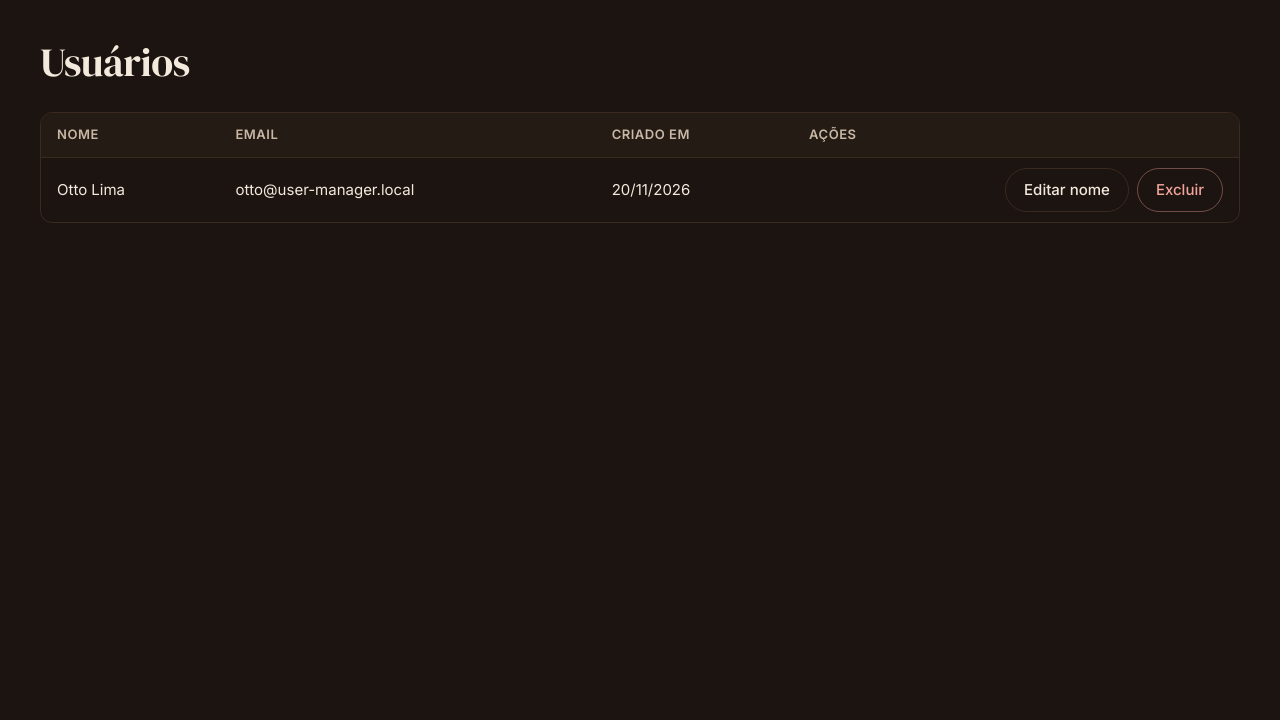
Test: UsersPage › UsersPage_DeleteOfMissingUser_SaysListWasRefreshed
This screenshot has width=1280, height=720.
Click the button with aria-label "Excluir Otto Lima" at {"x": 1180, "y": 190}, box [1137,168,1223,212]
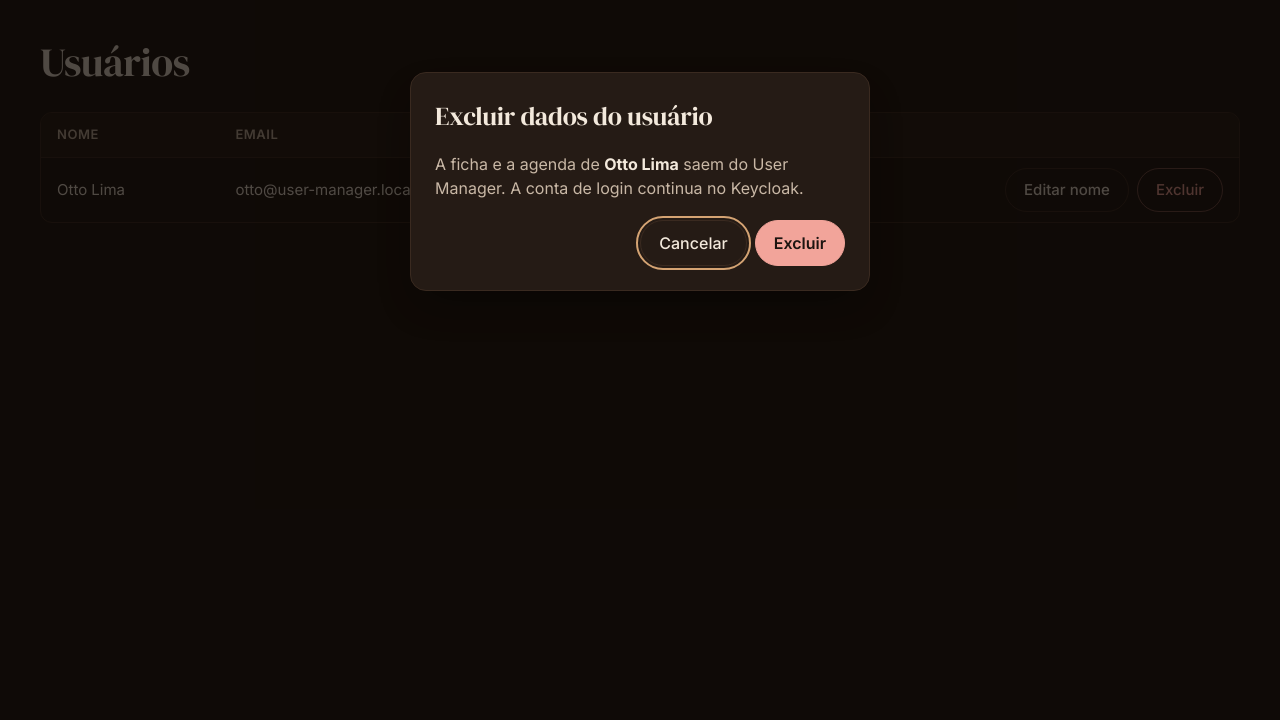
Click the button "Excluir" at {"x": 800, "y": 243}, box [755,220,845,266]
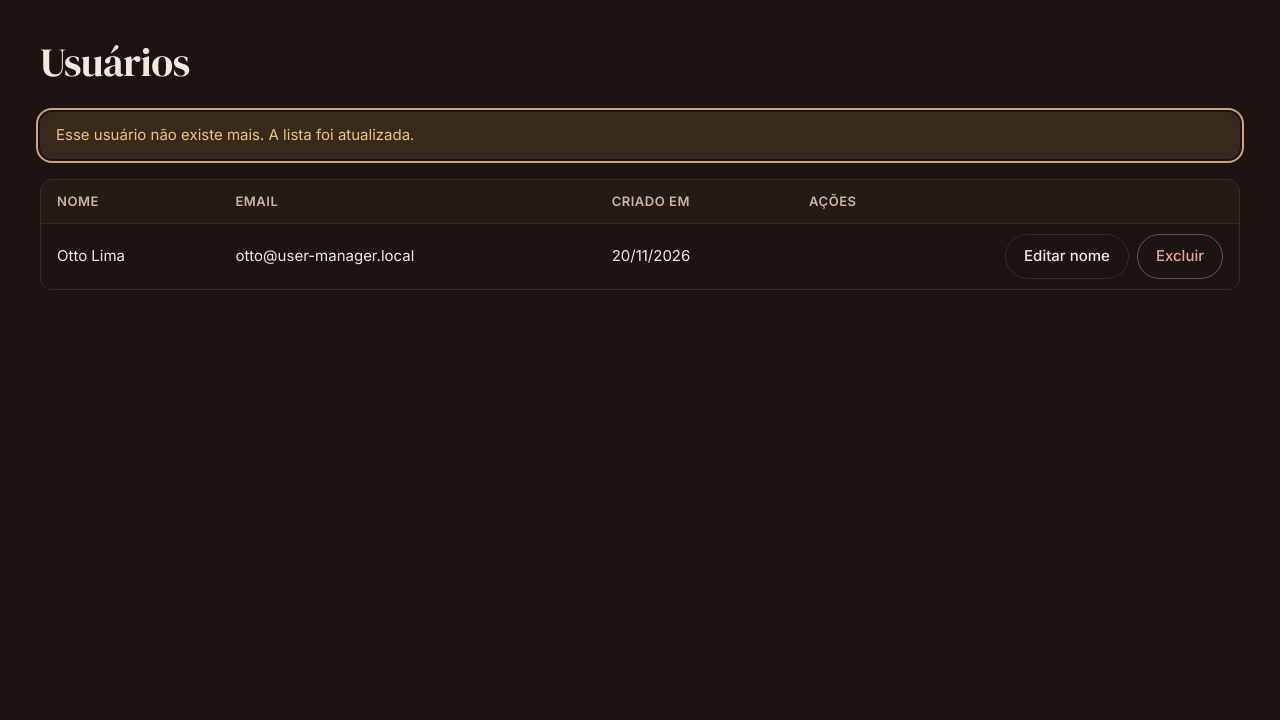
Expected: the message reads "Esse usuário não existe mais. A lista foi atualizada.", [56,125,414,144]
